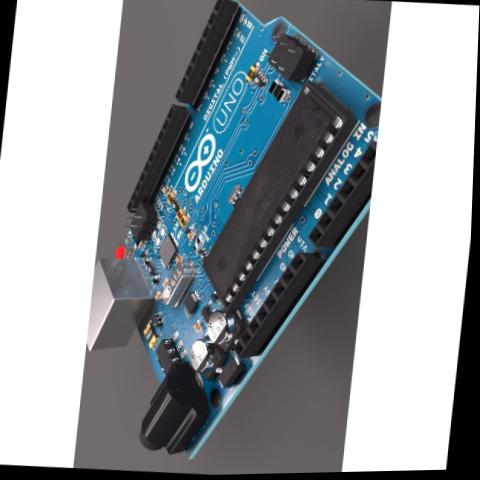Arduino-Uno: (76, 0, 391, 477)
